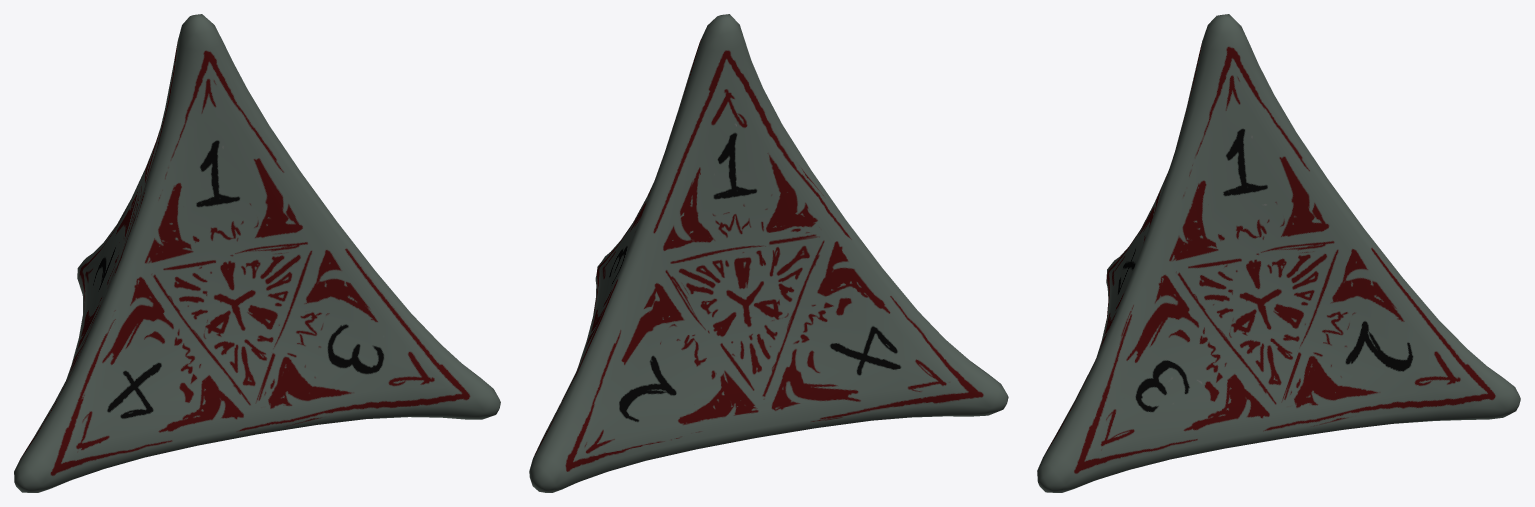
File: ogre_dice.fbx
3 renders of one model, left to right at view 1: azimuth 30°, elevation 25°; view 2: azimuth 150°, elevation 25°; view 3: azimuth 270°, elevation 25°, orthographic.
Parts seen in each view (by area): view 1: ogre; view 2: ogre; view 3: ogre.
Boxes of the visible parts, x1=… form: ogre: x1=14, y1=14, x2=500, y2=492; ogre: x1=529, y1=14, x2=1008, y2=492; ogre: x1=1037, y1=14, x2=1520, y2=492.
Size of the model in its own units: 2.58 by 2.14 by 2.45.
Materials: 1 (1 with a texture image).
